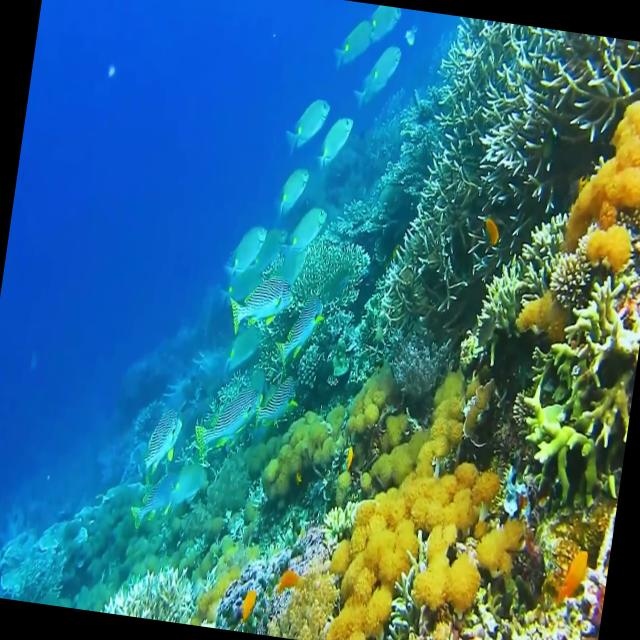fish: (188, 353, 276, 477), (224, 252, 300, 354), (266, 280, 336, 375), (268, 74, 336, 166), (135, 401, 192, 483), (218, 210, 276, 290), (304, 102, 362, 178), (272, 149, 320, 227), (286, 192, 331, 268), (362, 39, 413, 106), (328, 9, 368, 78), (354, 2, 407, 54)
